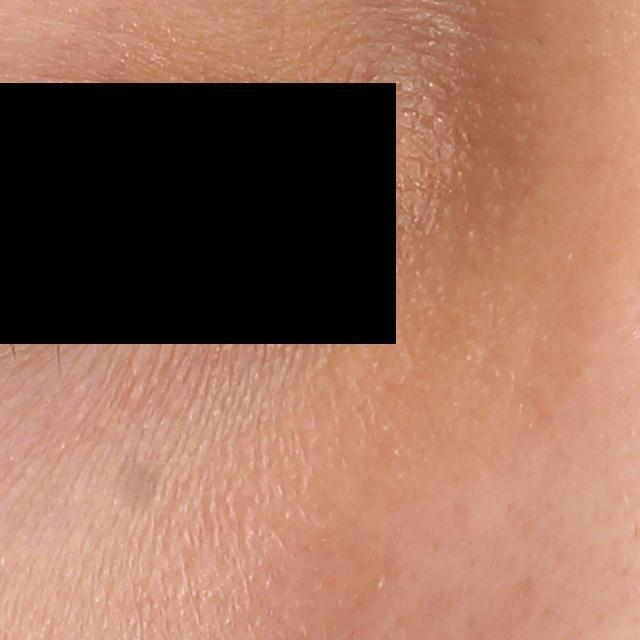other: (107, 452, 172, 520)
